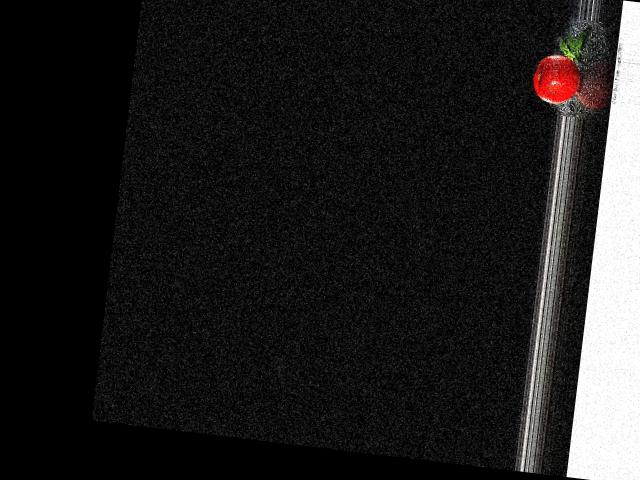tomato: (530, 52, 581, 105)
